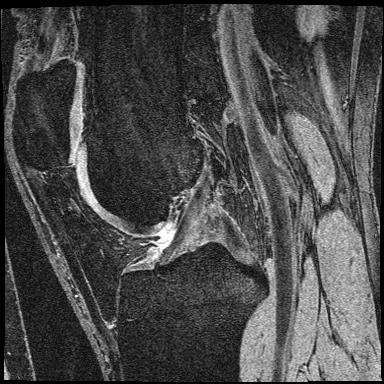SagKneeJointArea: (15, 58, 270, 331)
